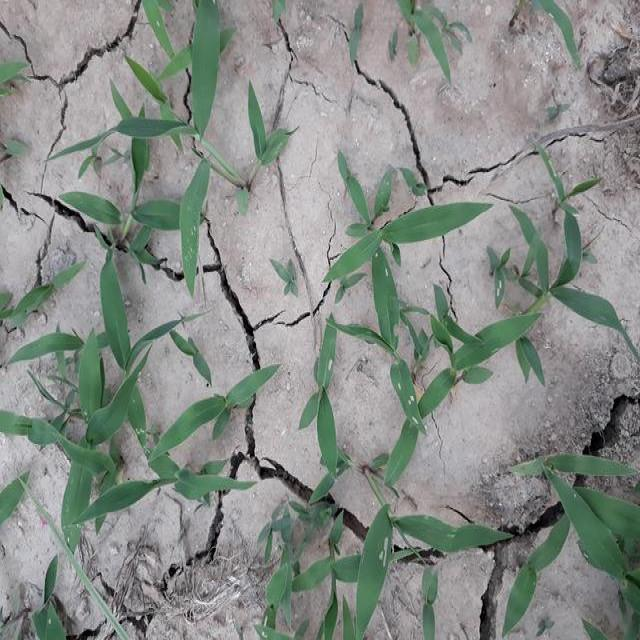weed: (302, 153, 465, 640), (32, 243, 162, 567), (520, 433, 640, 640)
